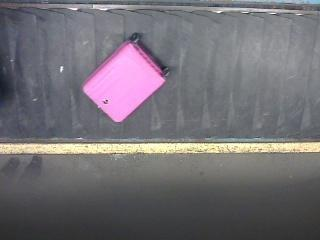Suitcase: (84, 33, 169, 123)
